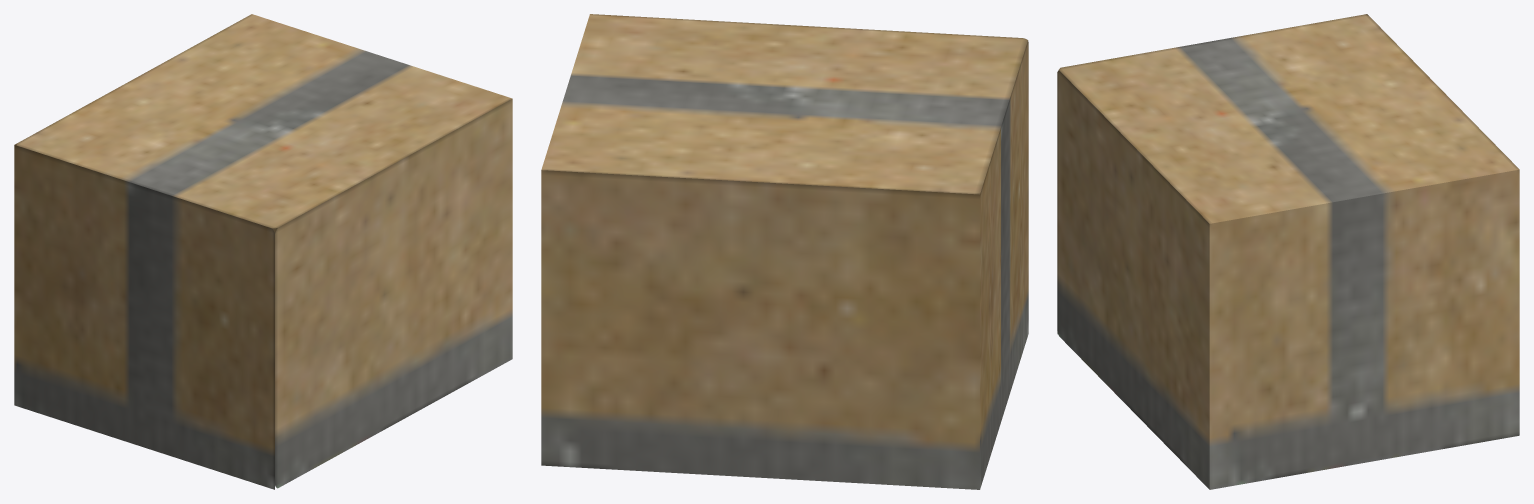
3 views of the same model, side by side, from view 1: azimuth 30°, elevation 25°; view 2: azimuth 150°, elevation 25°; view 3: azimuth 270°, elevation 25° (orthographic). The views are drawn at different scales.
Visible parts, largest first — view 1: cube; view 2: cube; view 3: cube.
Part boxes in pixels (bbox=[...]): cube: bbox=[14, 14, 512, 489]; cube: bbox=[541, 14, 1028, 489]; cube: bbox=[1057, 14, 1519, 489].
Size of what is drawn, in the model's own units: 148 by 87.5 by 138.
Materials: 1 (1 with a texture image).
